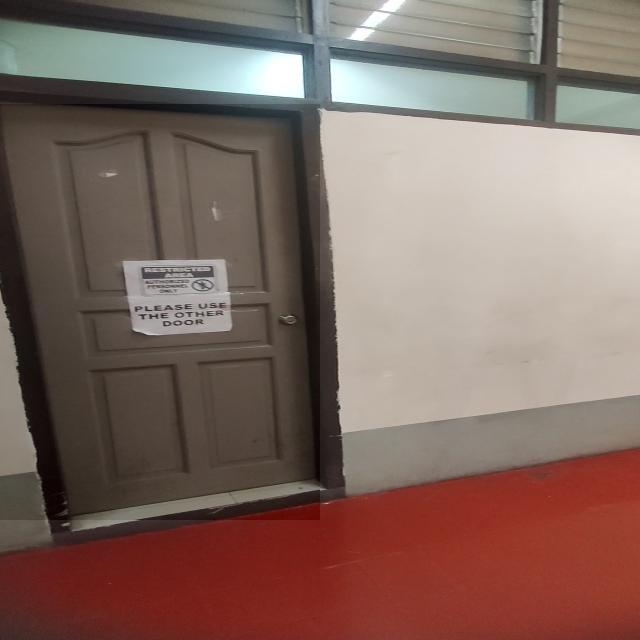door: (0, 57, 354, 521)
